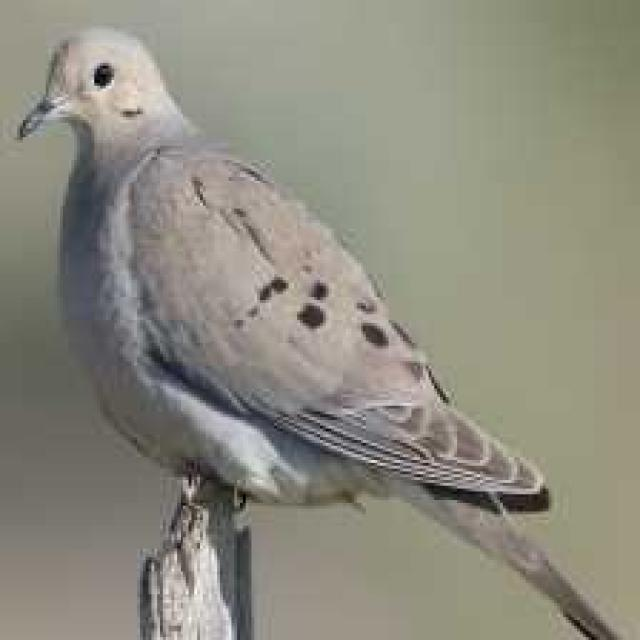bird: (15, 26, 634, 640)
